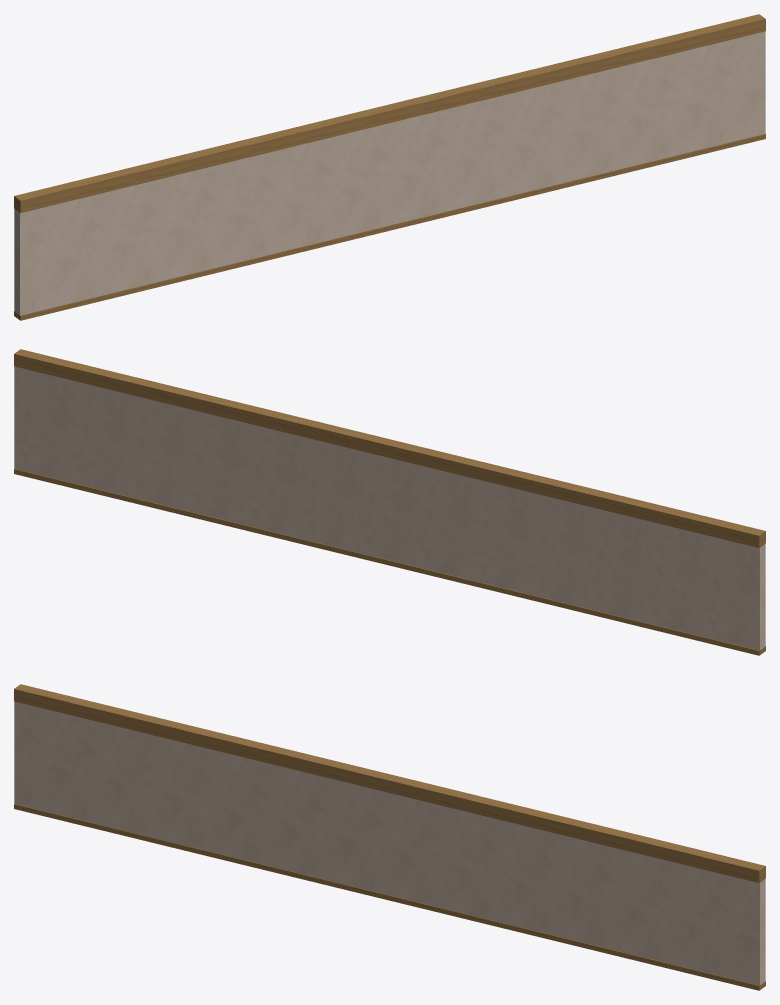
The model's file is wall_13.fbx.
3 views of the same model, one above another, from view 1: azimuth 30°, elevation 25°; view 2: azimuth 150°, elevation 25°; view 3: azimuth 330°, elevation 25° (orthographic).
Visible parts, largest first — view 1: Cube.242; view 2: Cube.242; view 3: Cube.242.
Boxes of the visible parts, x1,y1,x2,y2 form: Cube.242: (14,14,765,320); Cube.242: (14,349,765,655); Cube.242: (14,684,765,990).
Bounding box in the file's own units: 1300 × 200 × 20.
